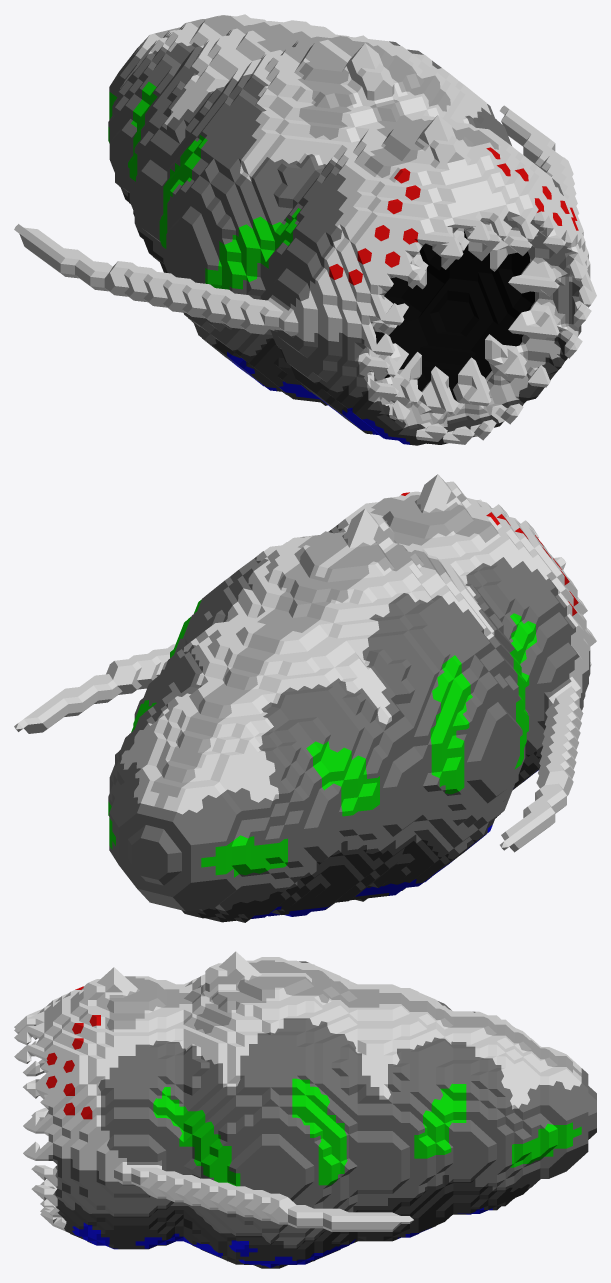
The model's file is ship_fallen_kezel.fbx.
3 views of the same model, one above another, from view 1: azimuth 30°, elevation 25°; view 2: azimuth 150°, elevation 25°; view 3: azimuth 270°, elevation 25° (orthographic). The views are drawn at different scales.
Parts seen in each view (by area): view 1: ship_fallen_kezel; view 2: ship_fallen_kezel; view 3: ship_fallen_kezel.
Boxes of the visible parts, bbox=[...] form: ship_fallen_kezel: bbox=[14, 14, 596, 445]; ship_fallen_kezel: bbox=[14, 474, 596, 922]; ship_fallen_kezel: bbox=[14, 951, 596, 1268].
Size of the model in its own units: 5500 by 3800 by 6700.
